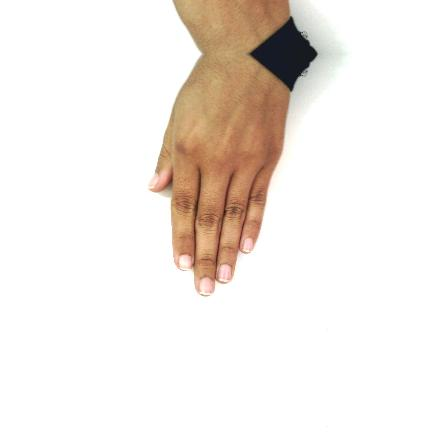Nail: (198, 277, 215, 296), (217, 265, 232, 284), (179, 255, 193, 269), (241, 238, 253, 254), (147, 174, 159, 189)
